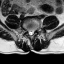CCS_normal: (30, 28, 32, 38)
LFS_stenosis: (34, 27, 36, 33)
LLS_normal: (32, 28, 34, 36)
RFS_severe_stenosis: (26, 26, 28, 33)
RLS_normal: (28, 28, 30, 36)
